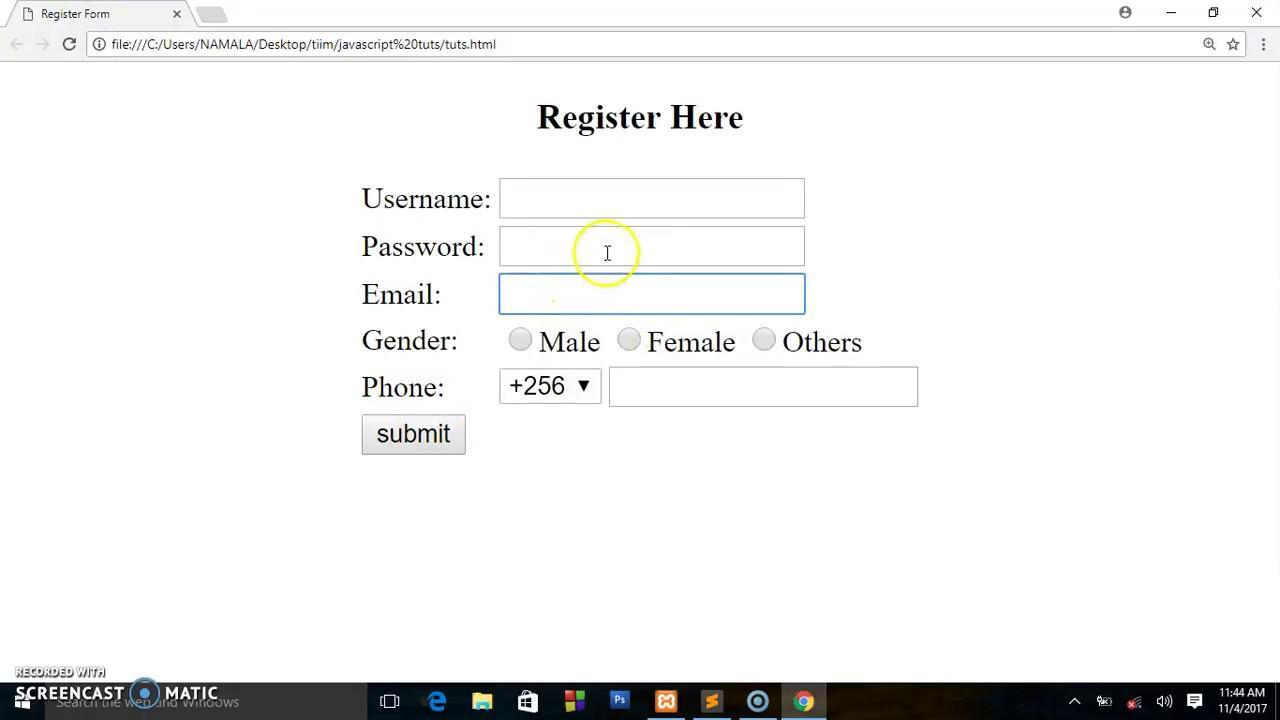button: (365, 416, 467, 455)
dropdown: (502, 369, 603, 405)
input: (501, 181, 805, 220), (502, 227, 806, 266), (611, 369, 918, 407), (501, 276, 805, 314)
label: (356, 179, 495, 217), (358, 231, 492, 264), (355, 328, 469, 362), (355, 371, 451, 405), (782, 325, 872, 358), (648, 330, 738, 359), (357, 281, 444, 310), (539, 327, 604, 357)
radio: (612, 322, 648, 358), (750, 324, 780, 357), (508, 325, 537, 354)
